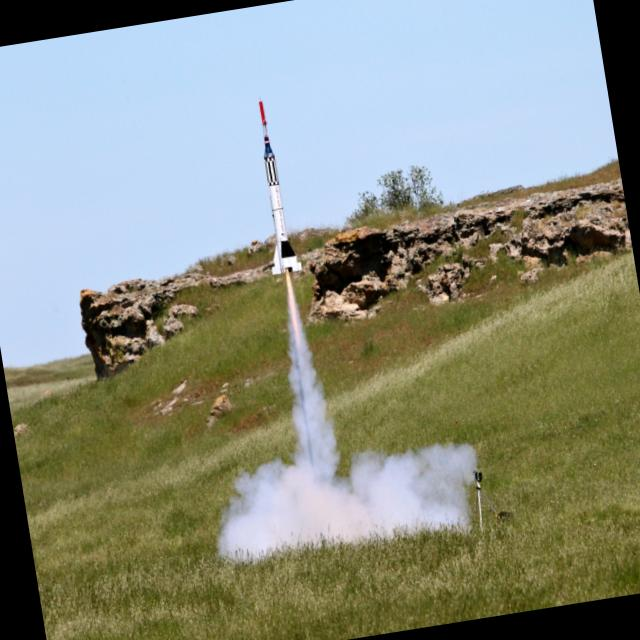rocket: (248, 93, 324, 395)
